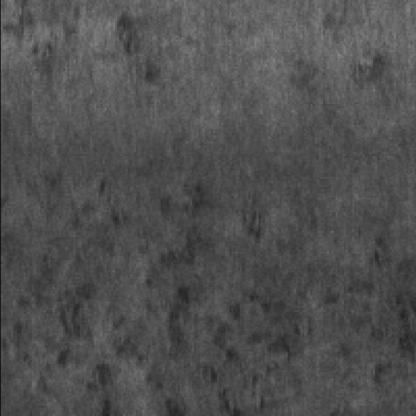rolled-in_scale: (85, 274, 408, 416), (54, 183, 266, 268), (8, 274, 140, 408), (102, 12, 170, 100)
